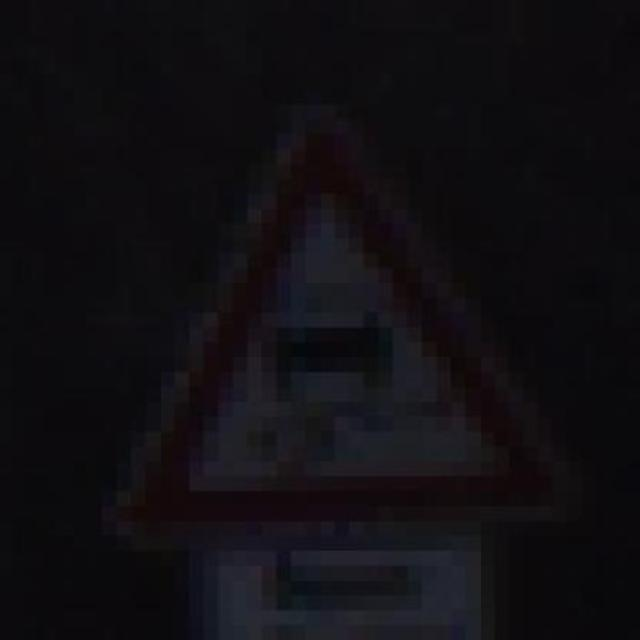Slippery Road Ahead: (102, 89, 596, 566)
